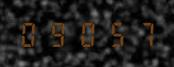five: (99, 20, 125, 47)
nine: (45, 20, 71, 47)
seven: (126, 20, 152, 47)
zero: (18, 20, 44, 47), (72, 20, 98, 47)
